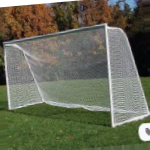goals: (2, 22, 150, 127)
